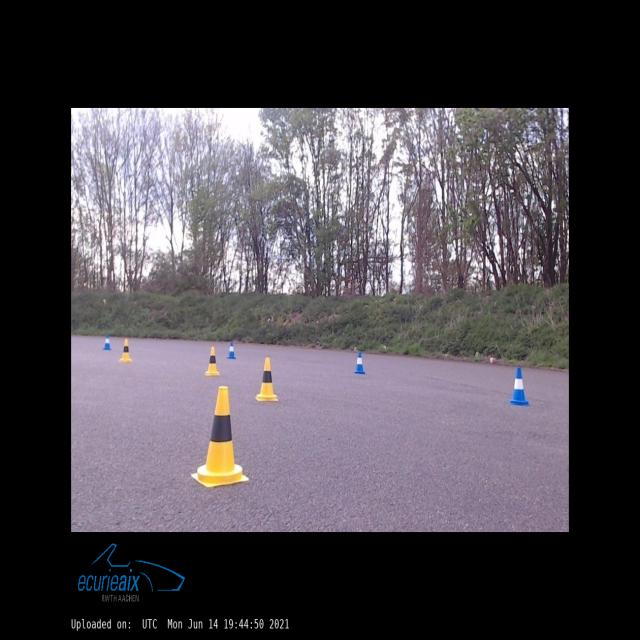blue_cone: (510, 368, 531, 406), (354, 352, 365, 374), (228, 341, 235, 358), (103, 335, 111, 349)
yellow_cone: (191, 387, 249, 487), (255, 359, 278, 400), (206, 347, 220, 375), (120, 339, 131, 362)
